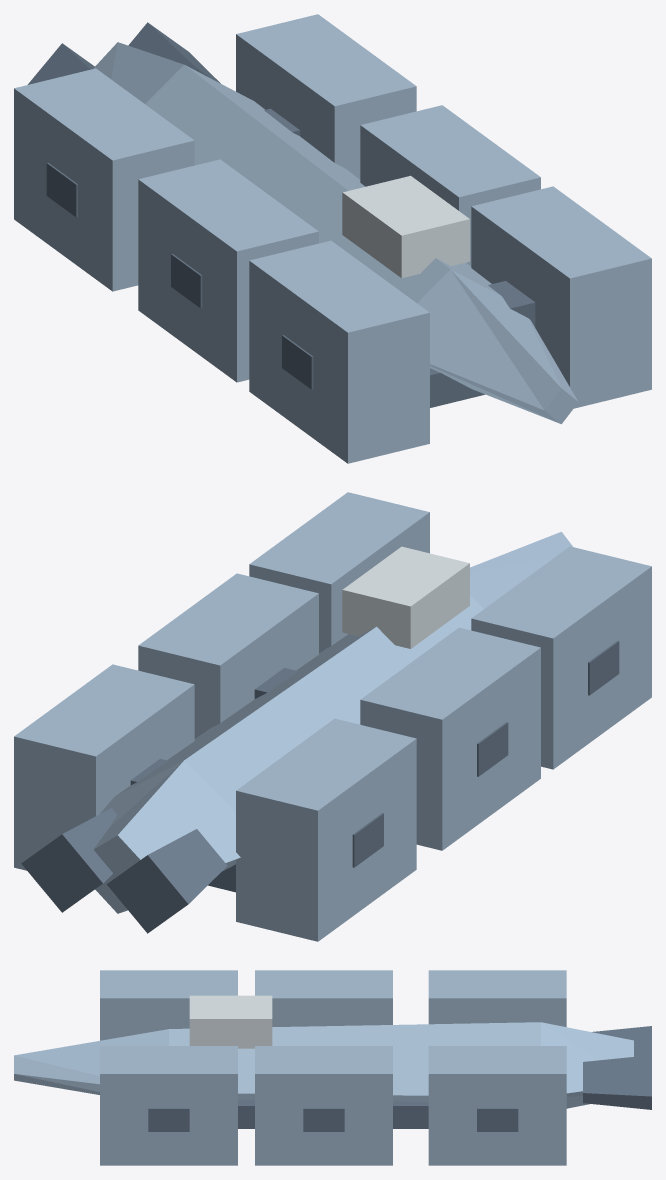
The picture shows the model from 3 angles, top to bottom: view 1: azimuth 30°, elevation 25°; view 2: azimuth 150°, elevation 25°; view 3: azimuth 270°, elevation 25°; orthographic projection. The views are drawn at different scales.
Size of the model in its own units: 3.46 by 1.64 by 8.89.
